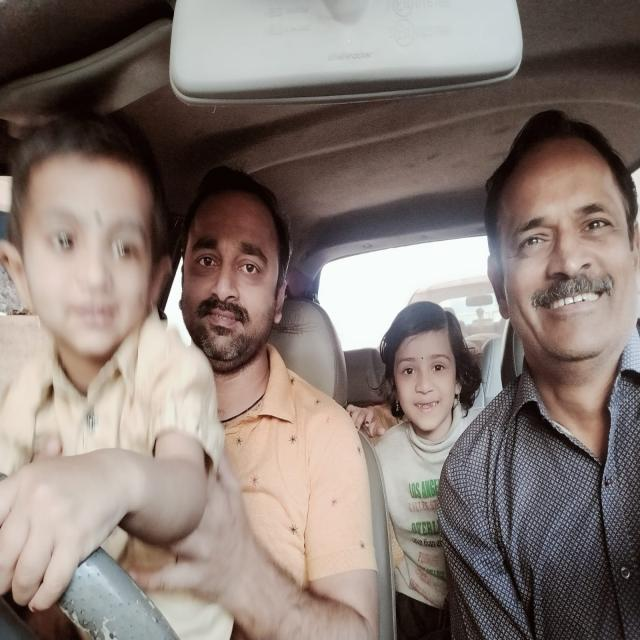child: (0, 120, 174, 415), (364, 291, 483, 455)
person: (474, 101, 640, 398), (174, 164, 301, 401)
